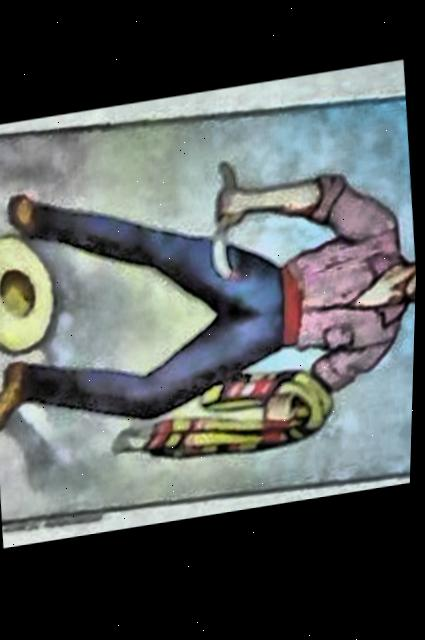El Valiente: (0, 102, 418, 521)
